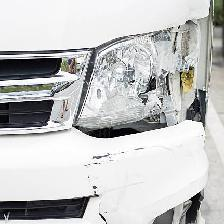head_lamp: (43, 26, 224, 157)
